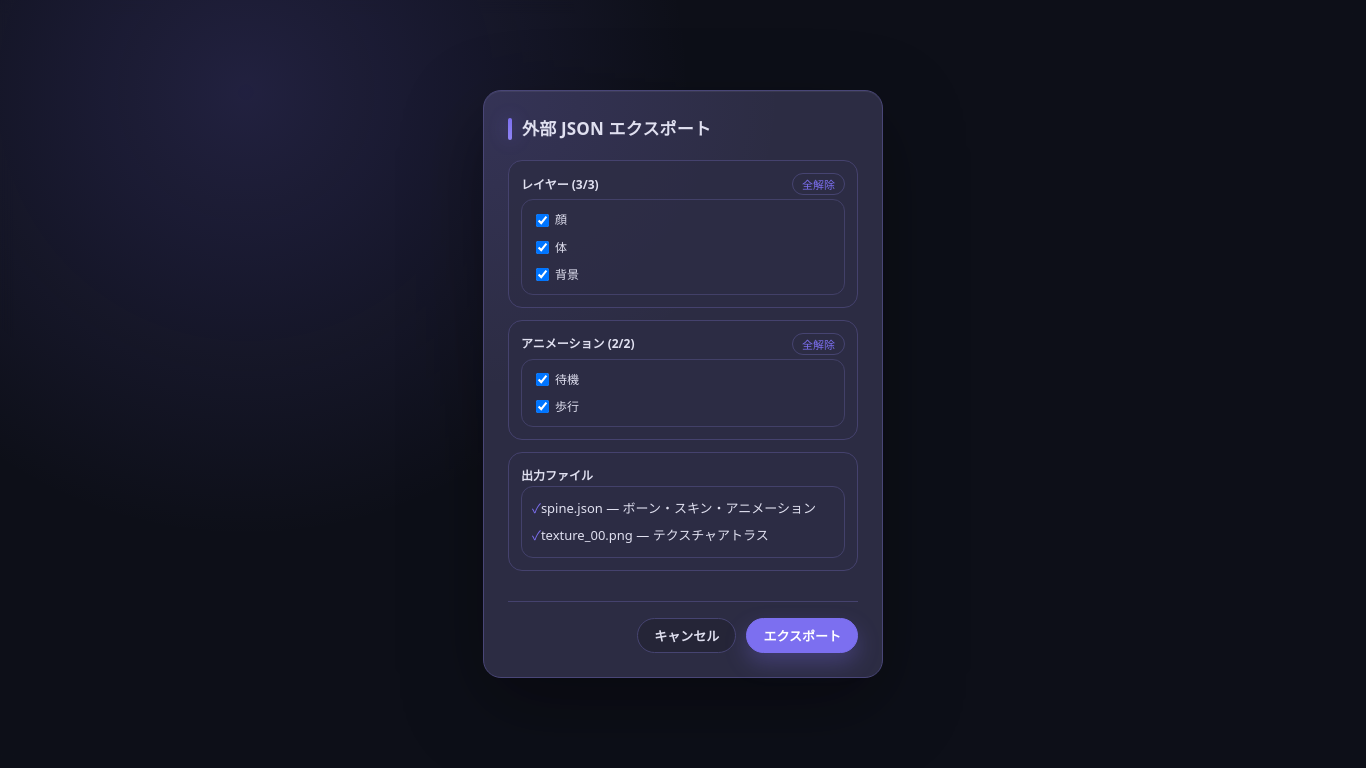
ExportDialog — レイヤー選択 › チェックボックスをクリックすると選択が切り替わる
Click the checkbox labelled "顔". click: (542, 220)
box: [536,214,549,226]
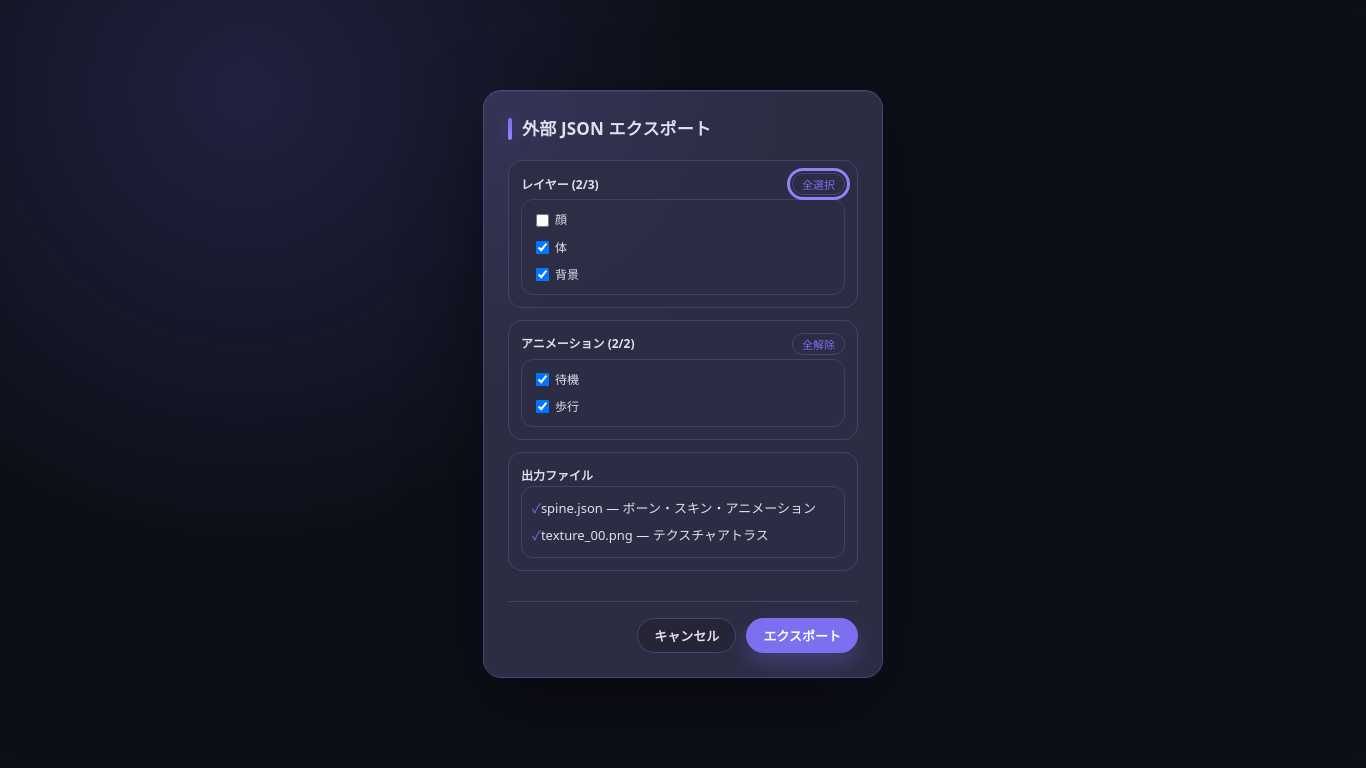
Now the checkbox labelled "顔" is not checked, box [536,214,549,226]
Now the text "レイヤー (2/3)" is shown, box [521,175,599,194]
